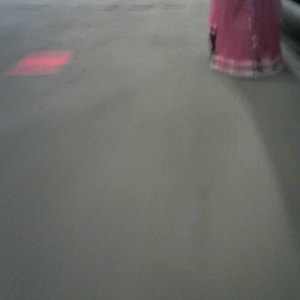Right: (204, 1, 285, 77)
